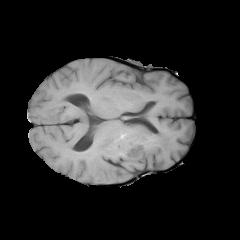glioma: (85, 121, 171, 182)
